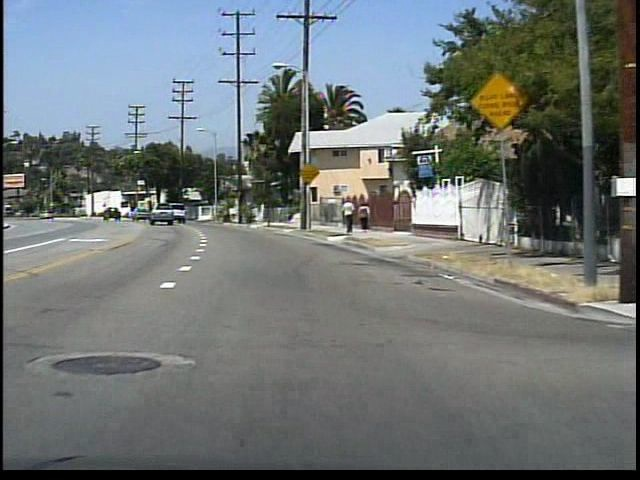person: (339, 197, 357, 237), (356, 201, 372, 234)
